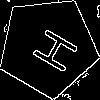H: (23, 21, 80, 75)
